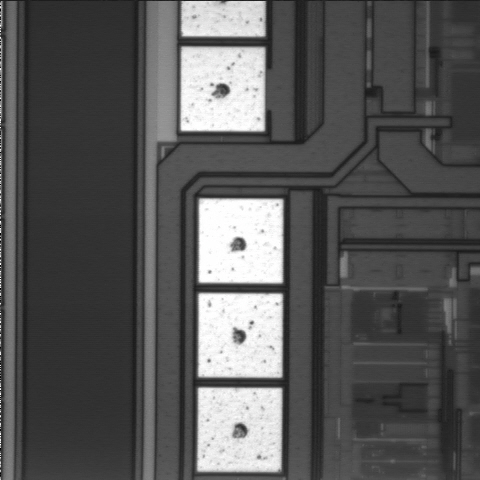pad: (198, 293, 283, 378), (197, 388, 282, 472), (181, 47, 265, 131), (199, 199, 283, 283)
